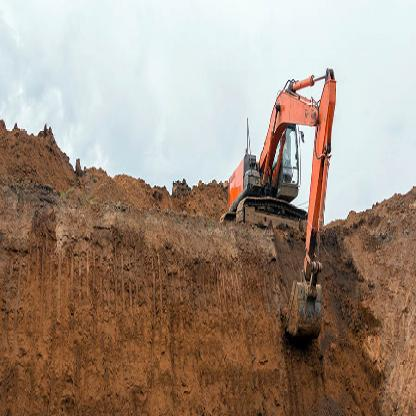excavator: (215, 49, 343, 359)
